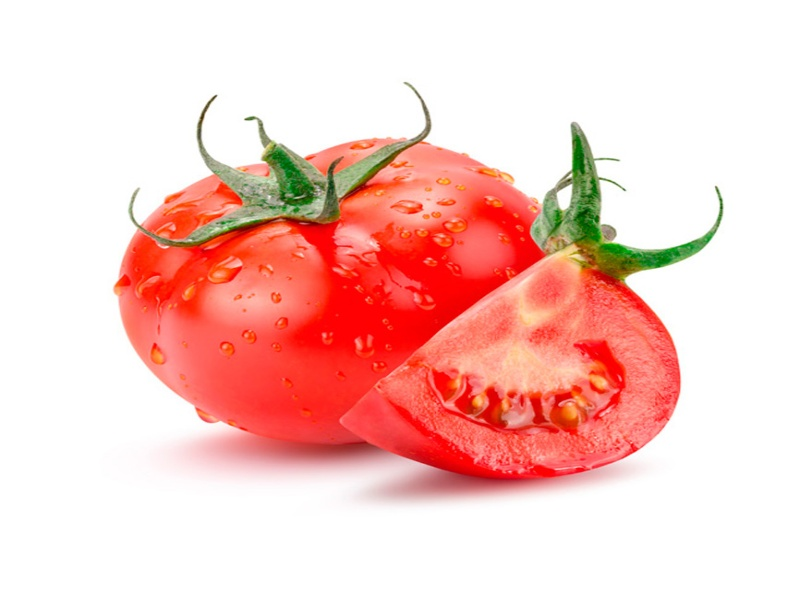Tomate: (116, 137, 582, 445), (340, 247, 682, 481)
